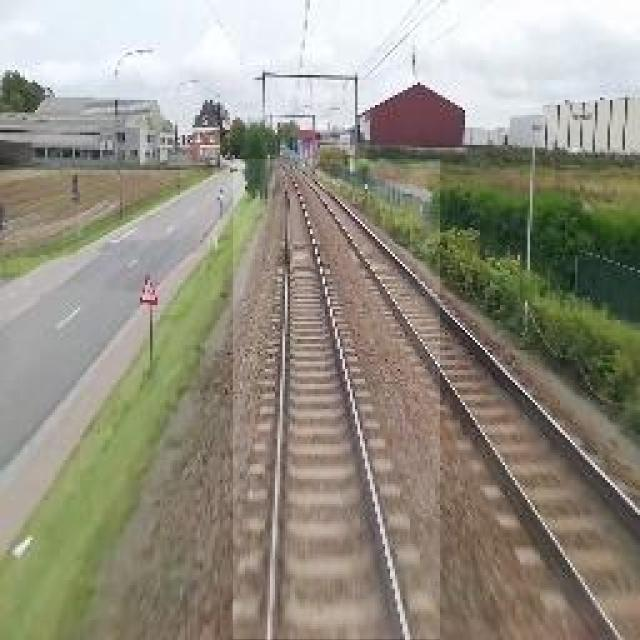rail: (234, 160, 441, 640)
